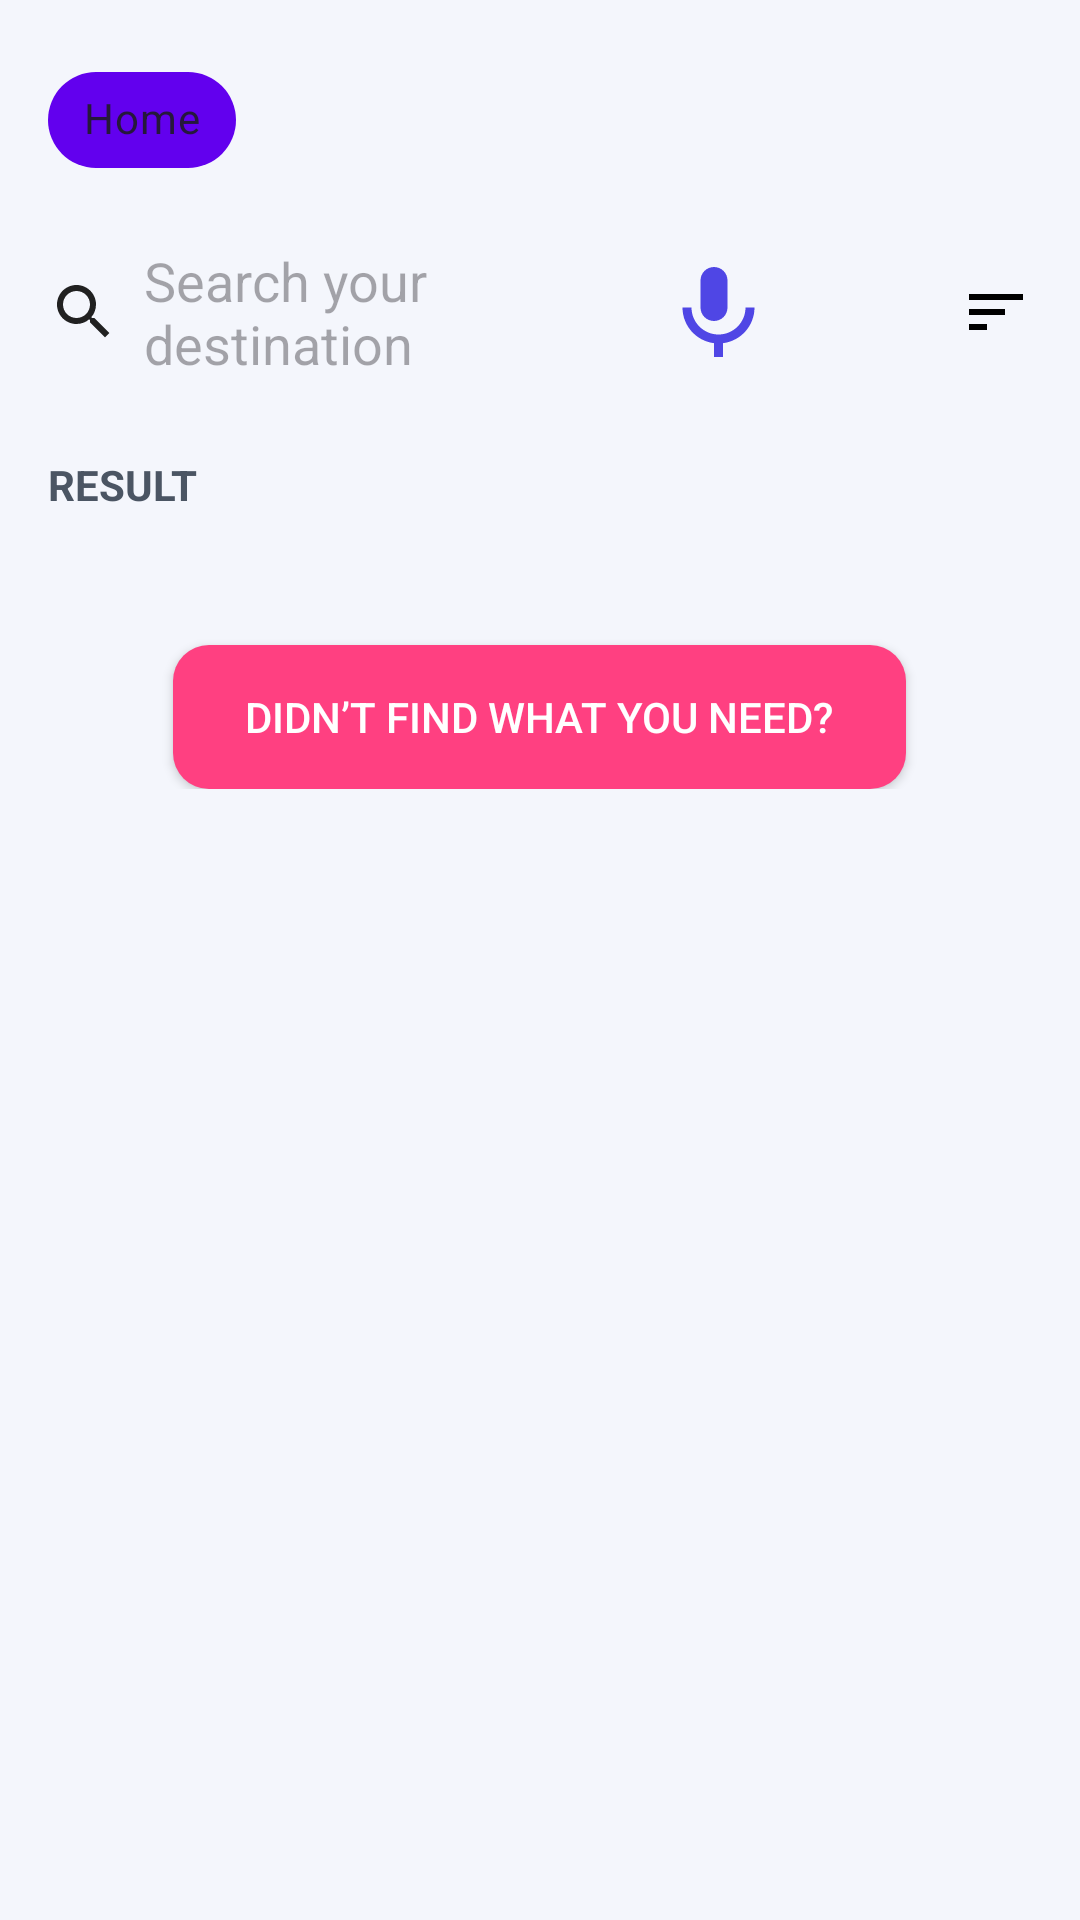

Where to tap for icons on this 1080 × 1920 app screen, as (x,y):
mic: (718,312)
sort: (996,312)
